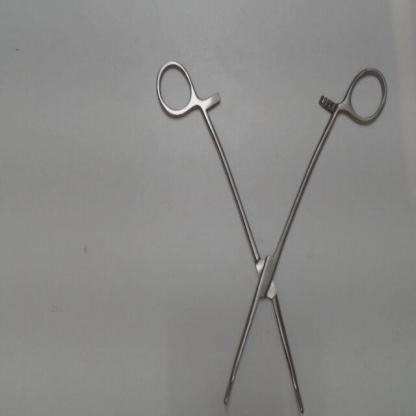Lahey Forceps: (148, 55, 397, 415)
